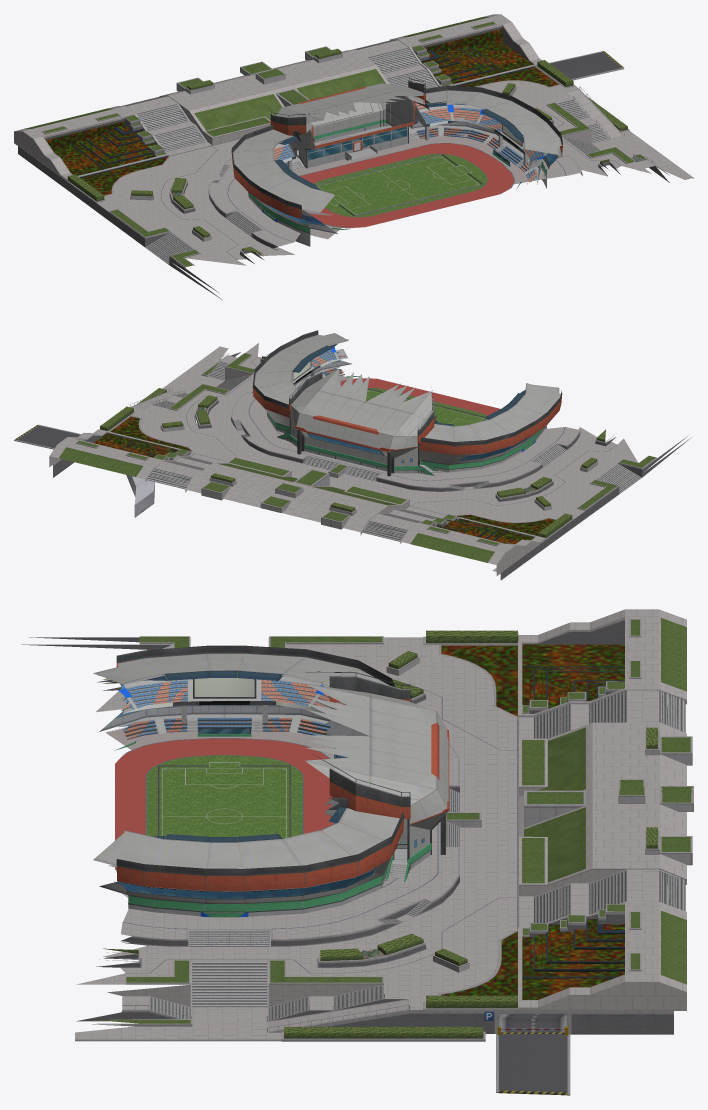
File: stadium.glb
3 views of the same model, one above another, from view 1: azimuth 30°, elevation 25°; view 2: azimuth 150°, elevation 25°; view 3: azimuth 270°, elevation 25° (orthographic). The views are drawn at different scales.
Bounding box in the file's own units: 199 × 38.9 × 133.
Materials: 1 (1 with a texture image).
